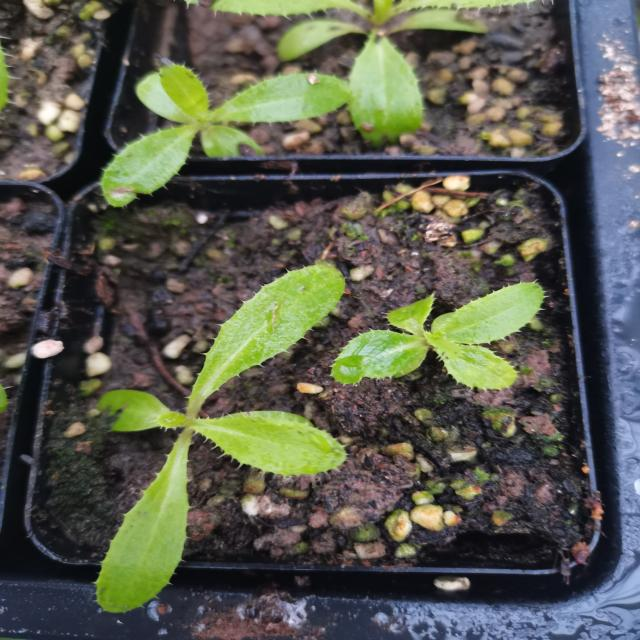field_thistle: (75, 231, 373, 611), (62, 37, 368, 203), (337, 266, 586, 418)
